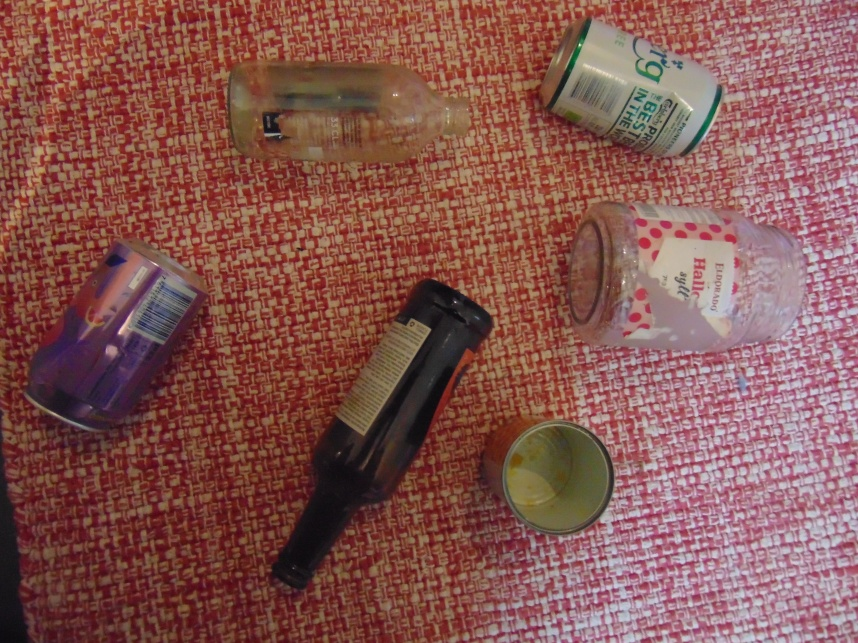glass_bottle: (272, 278, 495, 589), (560, 200, 807, 352), (226, 60, 473, 165)
metal_can: (22, 238, 202, 434), (539, 16, 726, 161), (482, 414, 614, 535)
